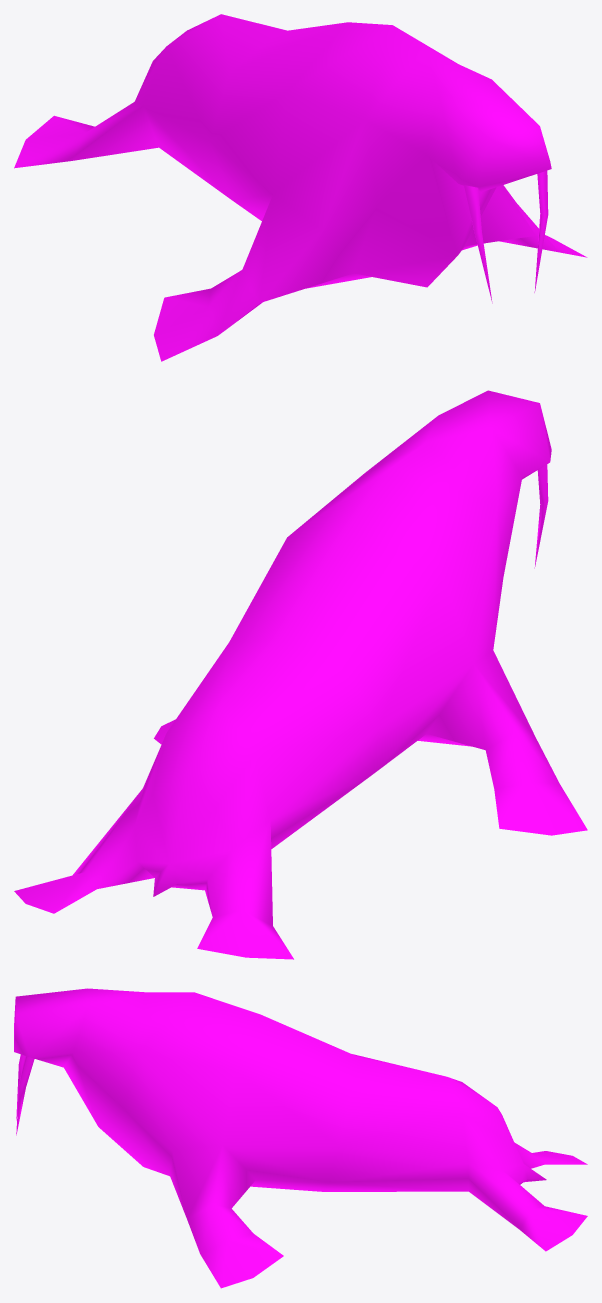
The model's file is walrus.gltf.
The picture shows the model from 3 angles, top to bottom: view 1: azimuth 30°, elevation 25°; view 2: azimuth 150°, elevation 25°; view 3: azimuth 270°, elevation 25°; orthographic projection. The views are drawn at different scales.
Parts seen in each view (by area): view 1: walrus; view 2: walrus; view 3: walrus.
Boxes of the visible parts, x1=… form: walrus: x1=14, y1=14, x2=587, y2=361; walrus: x1=14, y1=390, x2=587, y2=959; walrus: x1=14, y1=988, x2=587, y2=1288.
Bounding box in the file's own units: 0.0477 × 0.0318 × 0.0754.
